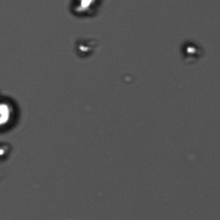Living Cell: (1, 93, 22, 134), (176, 37, 205, 65), (67, 1, 102, 18), (73, 37, 97, 59), (1, 139, 12, 163)
